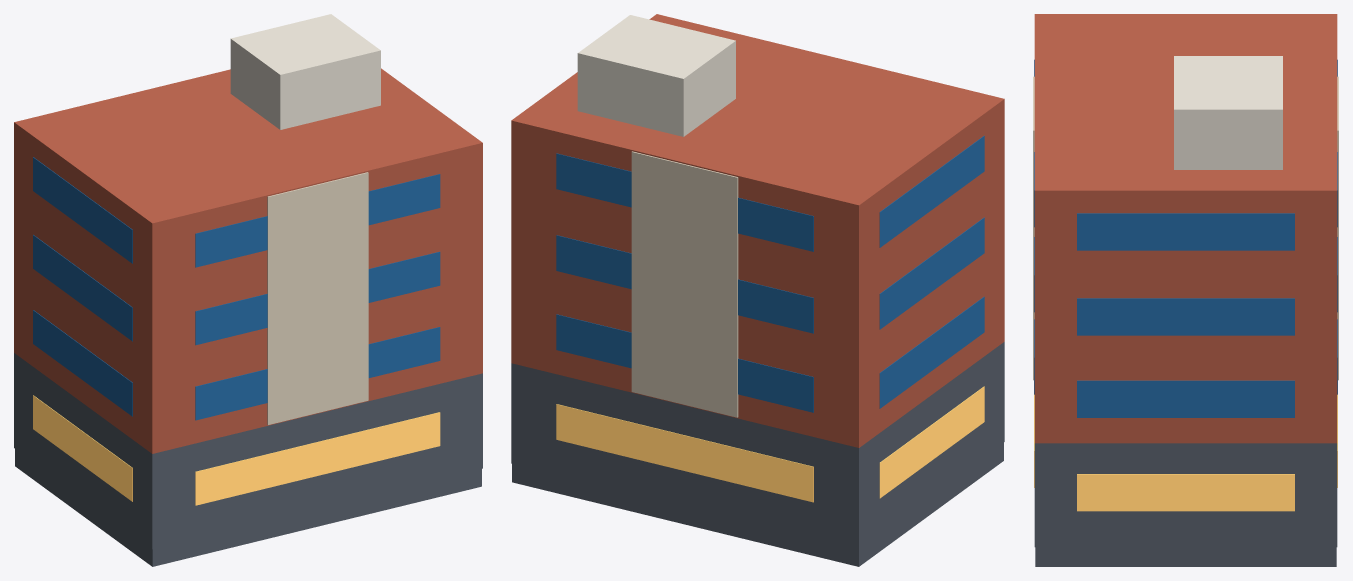
File: 07_midrise_residential-lod2.glb
3 views of the same model, side by side, from view 1: azimuth 30°, elevation 25°; view 2: azimuth 150°, elevation 25°; view 3: azimuth 270°, elevation 25° (orthographic). The views are drawn at different scales.
Parts seen in each view (by area): view 1: 07_midrise_residential_LOD2; view 2: 07_midrise_residential_LOD2; view 3: 07_midrise_residential_LOD2.
Part boxes in pixels (x1,y1,x2,y2): 07_midrise_residential_LOD2: (14, 14, 482, 566); 07_midrise_residential_LOD2: (511, 14, 1004, 566); 07_midrise_residential_LOD2: (1033, 14, 1338, 566).
Size of the model in its own units: 13.84 by 15.92 by 10.1.
Materials: 2 (2 with a texture image).
